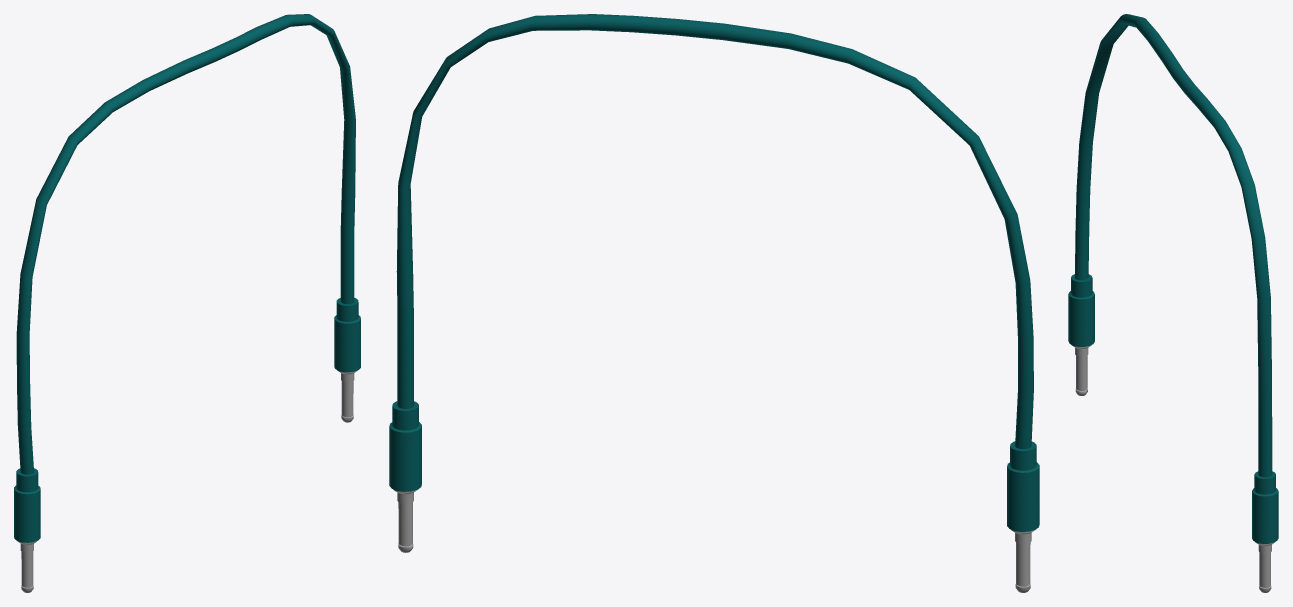
Rendered from Blue.gltf.
3 views of the same model, side by side, from view 1: azimuth 30°, elevation 25°; view 2: azimuth 150°, elevation 25°; view 3: azimuth 270°, elevation 25° (orthographic). The views are drawn at different scales.
Visible parts, largest first — view 1: Wire_08; view 2: Wire_08; view 3: Wire_08.
Boxes of the visible parts, x1,y1,x2,y2 form: Wire_08: (14, 14, 360, 592); Wire_08: (389, 14, 1039, 592); Wire_08: (1068, 14, 1278, 592).
Bounding box in the file's own units: 0.7405 × 0.7279 × 0.315.
2 materials, 1 textured.
